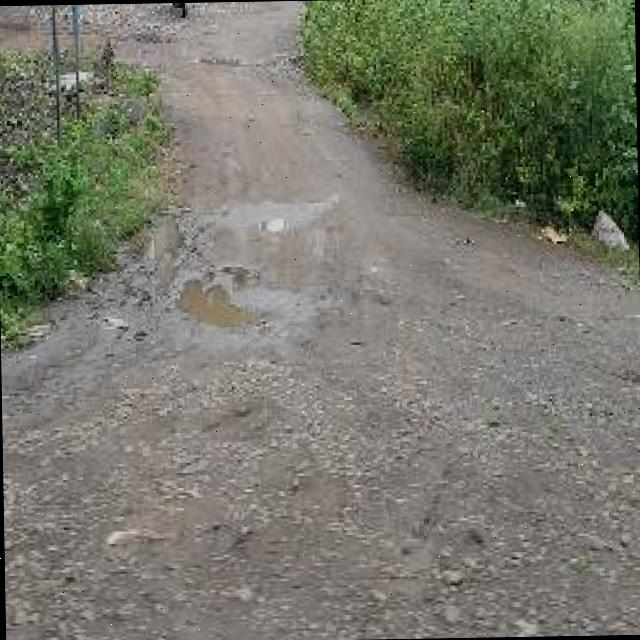stagnation: (170, 268, 272, 334)
